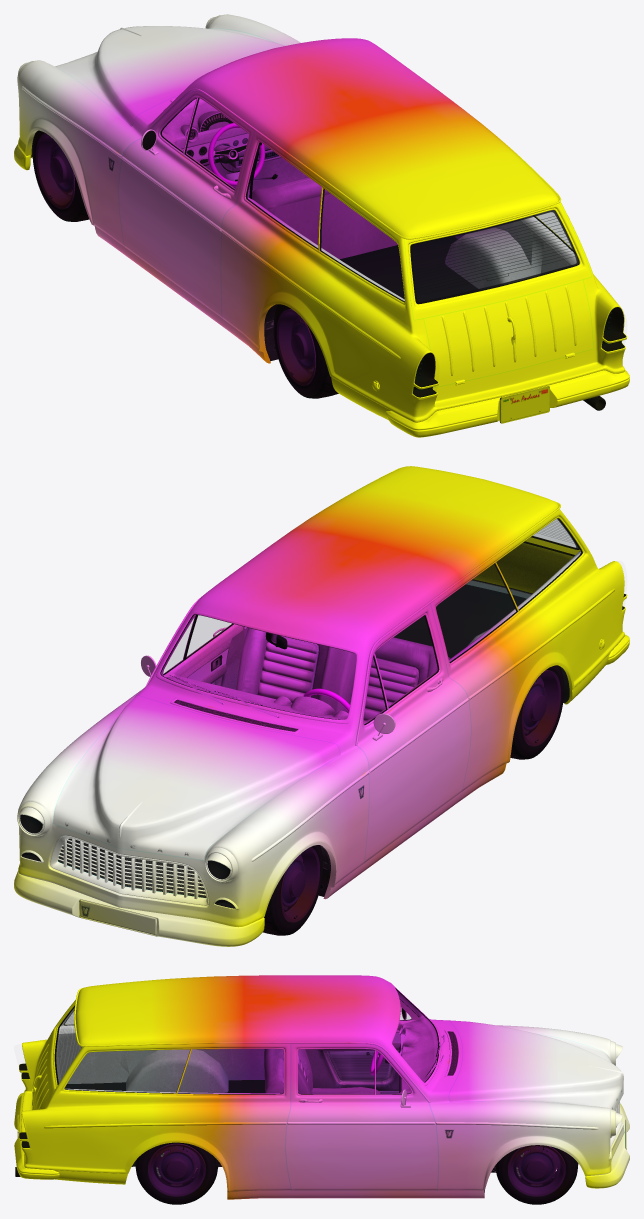
The model's file is fagaloa.glb.
The picture shows the model from 3 angles, top to bottom: view 1: azimuth 30°, elevation 25°; view 2: azimuth 150°, elevation 25°; view 3: azimuth 270°, elevation 25°; orthographic projection. The views are drawn at different scales.
Visible parts, largest first — view 1: bodyshell, chassis, door_dside_f, bonnet, cargodoor, windscreen_r, bumper_r, misc_j, misc_c, window_lr, wheel_lr, boot (+7 smaller); view 2: bodyshell, bonnet, chassis, door_dside_f, misc_j, bumper_f, window_lr, misc_c, wheel_lf, window_lf, wheel_lr, door_pside_f (+4 smaller); view 3: bodyshell, door_pside_f, chassis, bonnet, misc_j, window_rr, window_rm, wheel_rr, wheel_rf, window_rf, door_dside_f, misc_s (+8 smaller).
Part boxes in pixels (box(x1,y1,x2,y2)): bodyshell: box(17, 14, 624, 422); chassis: box(31, 98, 626, 397); door_dside_f: box(118, 90, 254, 317); bonnet: box(55, 26, 285, 126); cargodoor: box(423, 279, 593, 387); windscreen_r: box(410, 210, 579, 303); bumper_r: box(386, 370, 629, 437); misc_j: box(17, 15, 626, 399); misc_c: box(321, 189, 404, 301); window_lr: box(247, 143, 320, 248); wheel_lr: box(273, 304, 338, 398); boot: box(404, 203, 591, 320); bodyshell: box(18, 466, 624, 927); bonnet: box(53, 695, 340, 860); chassis: box(20, 518, 625, 908); door_dside_f: box(357, 604, 471, 862); misc_j: box(17, 467, 627, 909); bumper_f: box(14, 871, 264, 946); window_lr: box(436, 564, 516, 661); misc_c: box(497, 519, 581, 608); wheel_lf: box(263, 845, 322, 935); window_lf: box(376, 616, 437, 706); wheel_lr: box(510, 665, 563, 759); door_pside_f: box(134, 614, 244, 695); bodyshell: box(21, 975, 624, 1199); door_pside_f: box(285, 1043, 438, 1190); chassis: box(19, 988, 496, 1192); bonnet: box(449, 1020, 623, 1109); misc_j: box(19, 983, 622, 1159); window_rr: box(178, 1049, 283, 1093); window_rm: box(65, 1050, 189, 1092); wheel_rr: box(135, 1142, 218, 1204); wheel_rf: box(495, 1145, 578, 1204); window_rf: box(298, 1049, 373, 1093); door_dside_f: box(305, 999, 419, 1093); misc_s: box(327, 1033, 400, 1080).
Size of the model in its own units: 1.59 by 1.3 by 4.42.
Materials: 25 (25 with a texture image).
